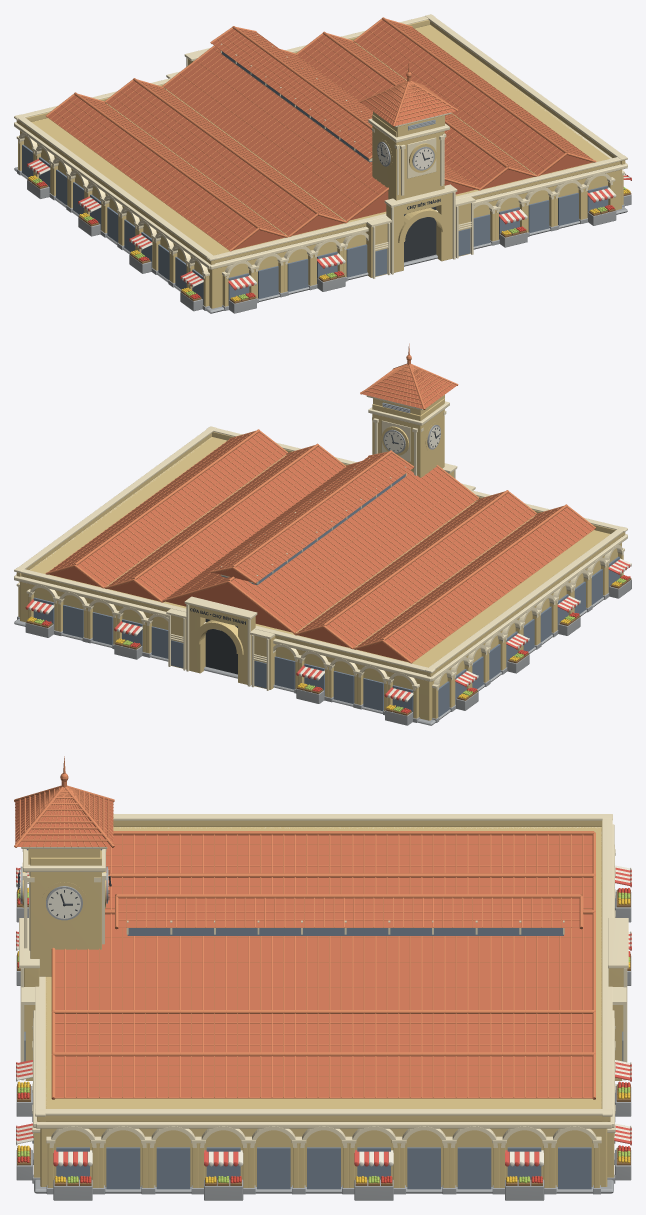
Rendered from ben-thanh-market.glb.
3 views of the same model, one above another, from view 1: azimuth 30°, elevation 25°; view 2: azimuth 150°, elevation 25°; view 3: azimuth 270°, elevation 25° (orthographic). The views are drawn at different scales.
Visible parts, largest first — view 1: Gabled hall roof.004, Market hall walls, Gabled hall roof, Gabled hall roof.001, Gabled hall roof.003, Gabled hall roof.002, Gabled hall roof.005, Clock tower shaft, South parapet cap, South cornice, Tower pyramid roof, Side coping.001 (+29 smaller); view 2: Gabled hall roof.004, Market hall walls, Gabled hall roof, Gabled hall roof.001, Gabled hall roof.003, Gabled hall roof.002, Gabled hall roof.005, Clock tower shaft, North parapet cap, North cornice, Tower pyramid roof, Side coping (+24 smaller); view 3: Gabled hall roof.004, Gabled hall roof.003, Market hall walls, Gabled hall roof.002, Gabled hall roof, Gabled hall roof.005, Gabled hall roof.001, Clock tower shaft, Side coping, Side parapet, Side cornice, Side coping.001 (+34 smaller).
Boxes of the visible parts, x1,y1,x2,y2 form: Gabled hall roof.004: (164, 46, 475, 220); Market hall walls: (20, 25, 621, 308); Gabled hall roof: (47, 95, 284, 249); Gabled hall roof.001: (106, 81, 343, 235); Gabled hall roof.003: (355, 20, 592, 174); Gabled hall roof.002: (297, 34, 533, 189); Gabled hall roof.005: (212, 29, 372, 157); Clock tower shaft: (372, 114, 444, 200); South parapet cap: (206, 155, 627, 261); South cornice: (209, 164, 627, 269); Tower pyramid roof: (361, 87, 455, 125); Side coping.001: (15, 114, 216, 260); Gabled hall roof.004: (166, 463, 477, 632); Market hall walls: (20, 437, 621, 720); Gabled hall roof: (357, 507, 594, 662); Gabled hall roof.001: (298, 493, 535, 647); Gabled hall roof.003: (49, 432, 286, 586); Gabled hall roof.002: (108, 447, 344, 601); Gabled hall roof.005: (214, 453, 412, 581); Clock tower shaft: (372, 398, 444, 477); North parapet cap: (14, 567, 435, 673); North cornice: (14, 576, 431, 681); Tower pyramid roof: (362, 371, 456, 408); Side coping: (14, 426, 216, 572); Gabled hall roof.004: (55, 914, 592, 1009); Gabled hall roof.003: (55, 1056, 592, 1097); Market hall walls: (40, 827, 607, 1186); Gabled hall roof.002: (55, 1014, 592, 1052); Gabled hall roof: (106, 835, 592, 873); Gabled hall roof.005: (118, 898, 579, 927); Gabled hall roof.001: (105, 877, 592, 909); Clock tower shaft: (30, 849, 101, 976); Side coping: (35, 1109, 612, 1115); Side parapet: (37, 1115, 610, 1121); Side cornice: (36, 1120, 611, 1128); Side coping.001: (113, 814, 612, 820).
Bounding box in the file's own units: 34.25 × 14.67 × 28.34.
